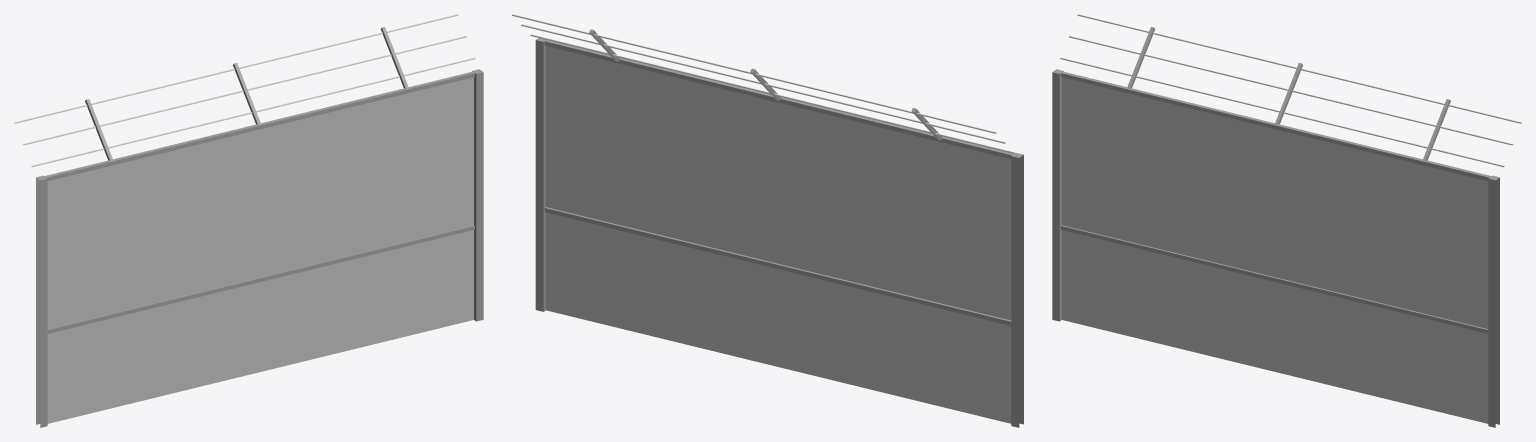
3 views of the same model, side by side, from view 1: azimuth 30°, elevation 25°; view 2: azimuth 150°, elevation 25°; view 3: azimuth 330°, elevation 25° (orthographic). The views are drawn at different scales.
Visible parts, largest first — view 1: SM_Grid_600; view 2: SM_Grid_600; view 3: SM_Grid_600.
Part boxes in pixels (box(x1,y1,x2,y2)): SM_Grid_600: box(14, 14, 483, 427); SM_Grid_600: box(512, 14, 1023, 427); SM_Grid_600: box(1052, 14, 1521, 427).
Size of the model in its own units: 600 by 64.83 by 377.
